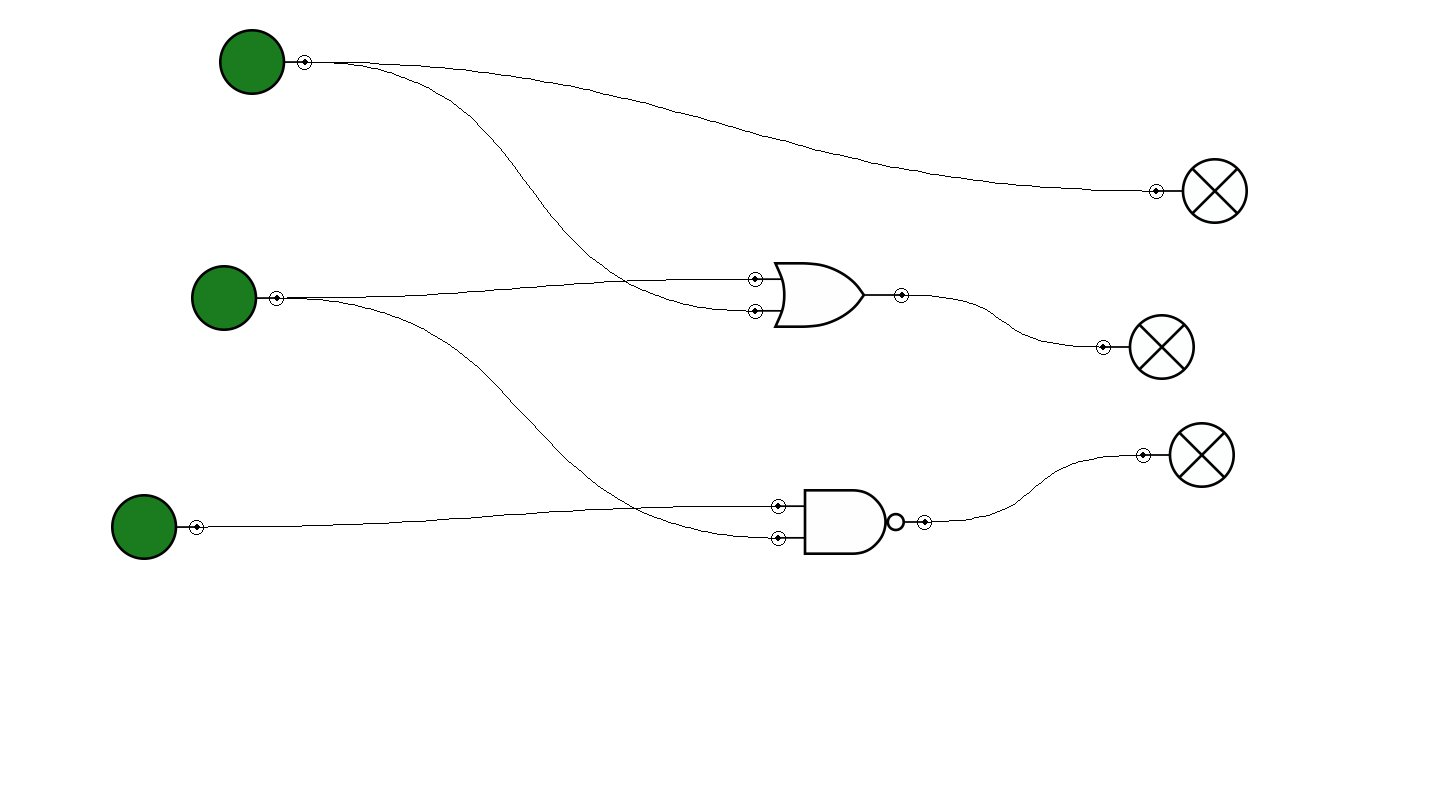bulb: (1149, 158, 1248, 224), (1136, 422, 1235, 488), (1096, 314, 1195, 380)
nand: (771, 489, 932, 555)
or: (748, 262, 909, 328)
switch_True: (191, 265, 284, 331), (111, 494, 204, 560), (219, 29, 312, 95)
